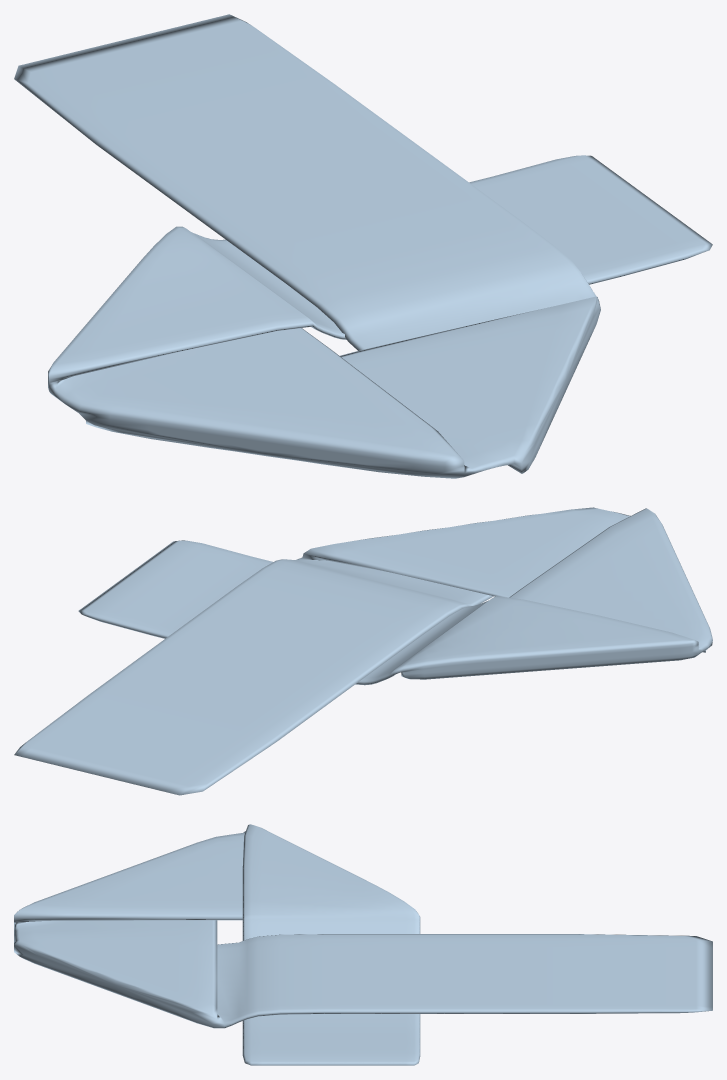
The model's file is note_blue_folded.fbx.
The picture shows the model from 3 angles, top to bottom: view 1: azimuth 30°, elevation 25°; view 2: azimuth 150°, elevation 25°; view 3: azimuth 270°, elevation 25°; orthographic projection. The views are drawn at different scales.
Visible parts, largest first — view 1: blue_folded_paper; view 2: blue_folded_paper; view 3: blue_folded_paper.
Boxes of the visible parts, x1,y1,x2,y2 form: blue_folded_paper: (14, 14, 712, 478); blue_folded_paper: (14, 507, 712, 795); blue_folded_paper: (14, 824, 712, 1065).
Bounding box in the file's own units: 20.56 × 1.52 × 27.78.
